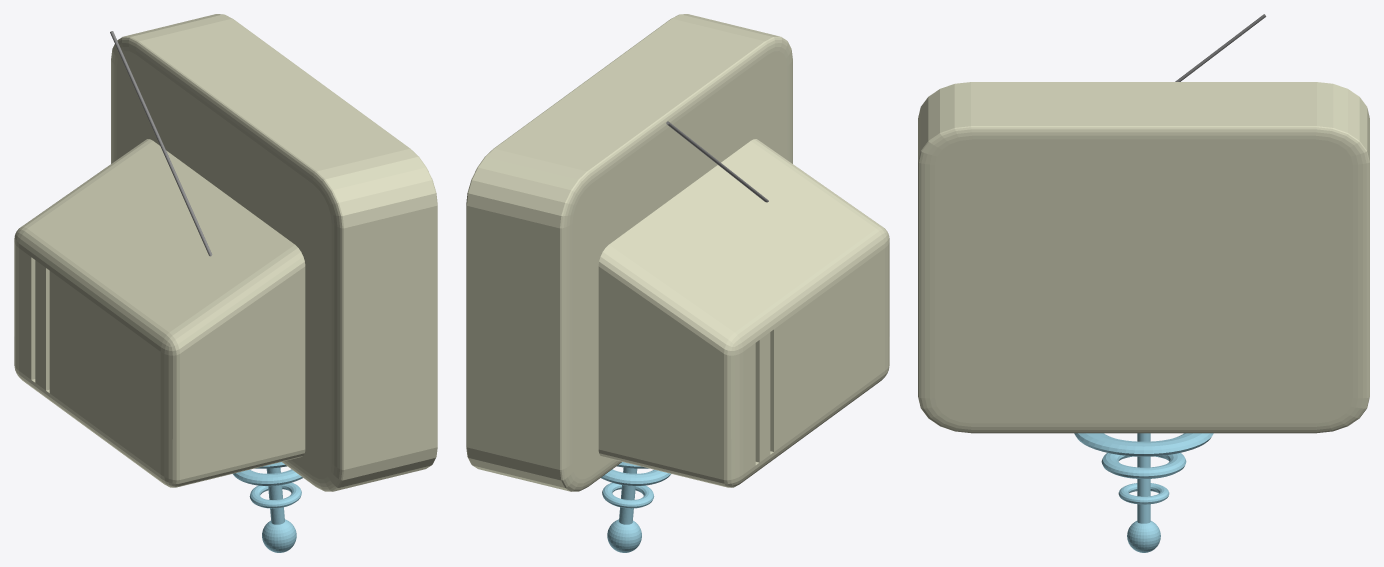
Rendered from Robot finito.fbx.
The picture shows the model from 3 angles, left to right: view 1: azimuth 30°, elevation 25°; view 2: azimuth 150°, elevation 25°; view 3: azimuth 270°, elevation 25°; orthographic projection. The views are drawn at different scales.
Visible parts, largest first — view 1: Robot, Antenna, Sphere, Torus.001, Torus.002, Asta; view 2: Robot, Sphere, Torus.001, Torus.002, Asta, Antenna; view 3: Robot, Torus, Torus.001, Sphere, Asta, Torus.002.
Boxes of the visible parts, x1,y1,x2,y2 form: Robot: (14, 14, 437, 491); Antenna: (110, 31, 212, 256); Sphere: (262, 519, 296, 552); Torus.001: (233, 469, 302, 486); Torus.002: (249, 482, 301, 508); Asta: (266, 467, 284, 524); Robot: (466, 14, 889, 491); Sphere: (607, 519, 641, 552); Torus.001: (601, 469, 670, 486); Torus.002: (602, 482, 654, 508); Asta: (619, 467, 637, 524); Antenna: (666, 121, 768, 202); Robot: (918, 82, 1369, 433); Torus: (1074, 433, 1213, 456); Torus.001: (1101, 453, 1186, 478); Sphere: (1127, 521, 1160, 552); Asta: (1137, 433, 1150, 523); Torus.002: (1118, 483, 1169, 504).
Bounding box in the file's own units: 484 × 952 × 800.
